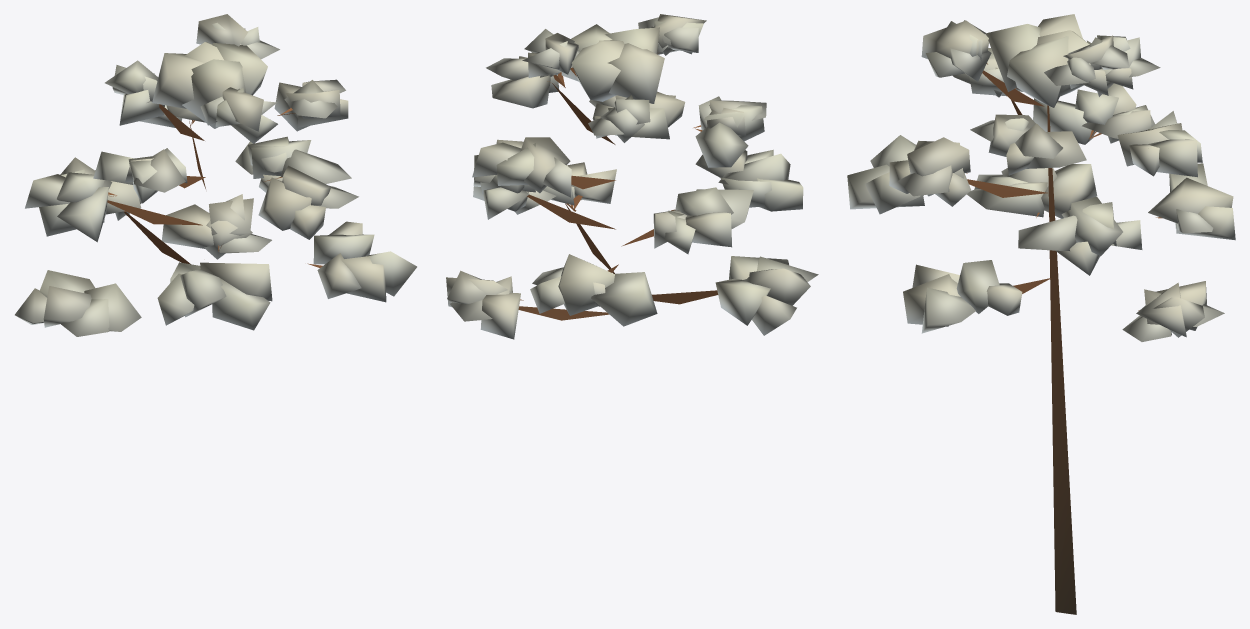
3 views of the same model, side by side, from view 1: azimuth 30°, elevation 25°; view 2: azimuth 150°, elevation 25°; view 3: azimuth 270°, elevation 25° (orthographic). The views are drawn at different scales.
Parts seen in each view (by area): view 1: crown, trunk; view 2: crown, trunk; view 3: crown, trunk.
Part boxes in pixels (x1,y1,x2,y2): crown: (15,14,416,336); trunk: (107,104,322,267); crown: (446,14,818,339); trunk: (518,53,718,320); crown: (847,14,1235,341); trunk: (966,63,1162,614).
Bounding box in the file's own units: 10.08 × 16.45 × 9.7.
